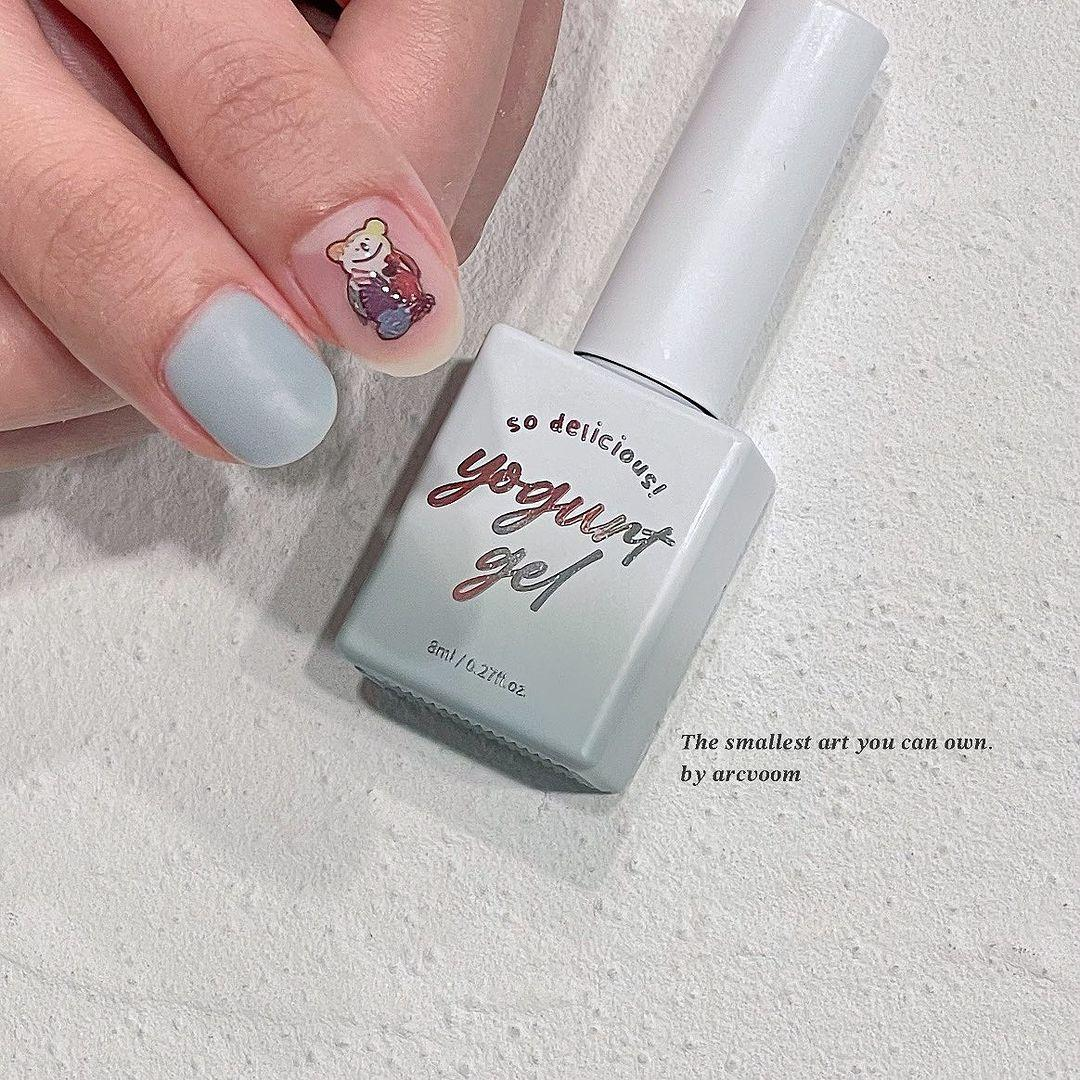nail: (159, 282, 339, 469), (291, 197, 462, 376)
